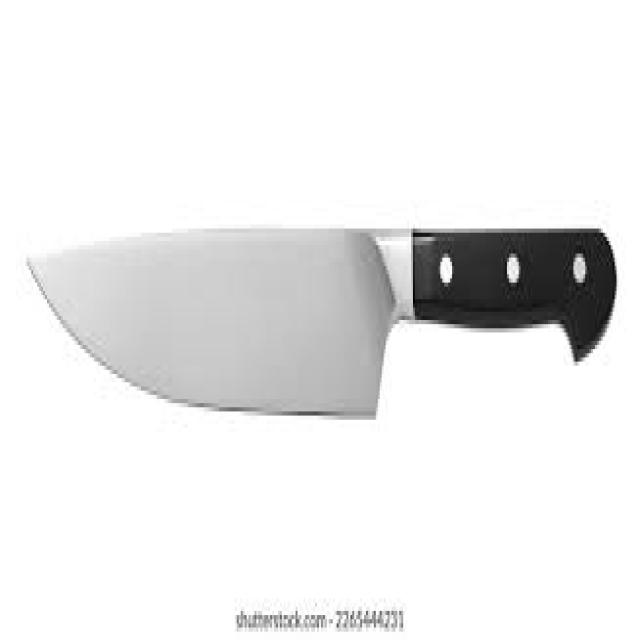Knife: (26, 220, 616, 416)
